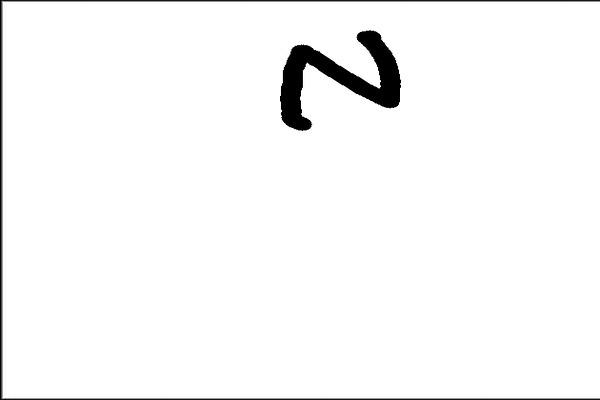N: (273, 21, 406, 135)
